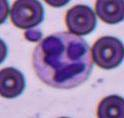N: (32, 31, 92, 88)
